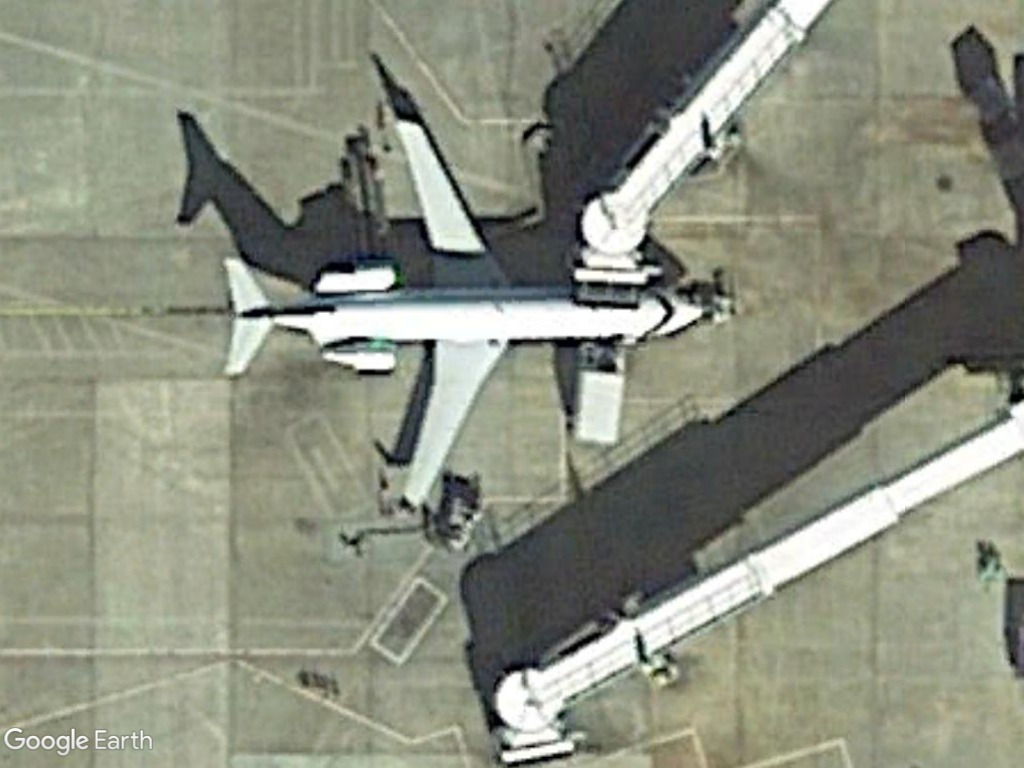chartered: (207, 111, 713, 515)
